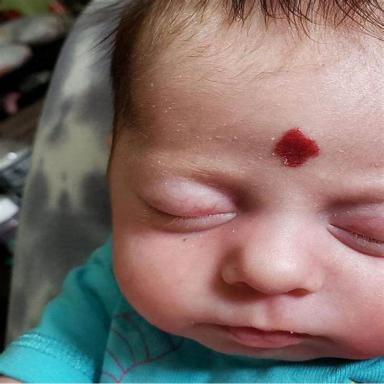Hemangiome: (274, 127, 320, 167)
